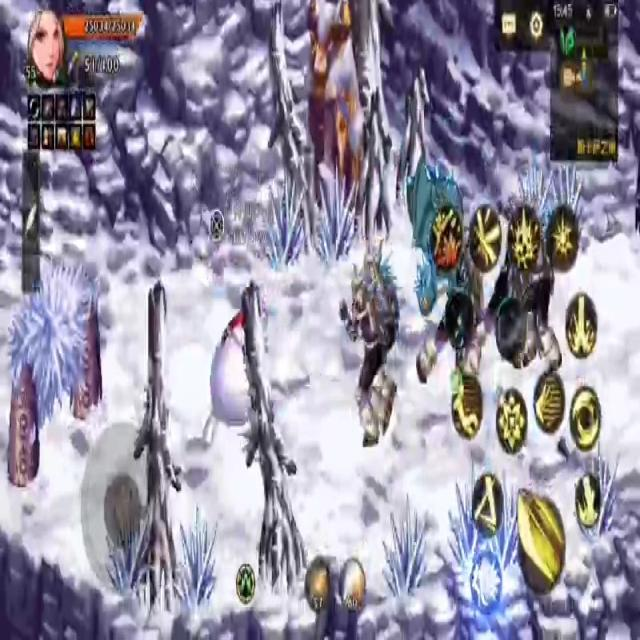player: (203, 287, 264, 447)
